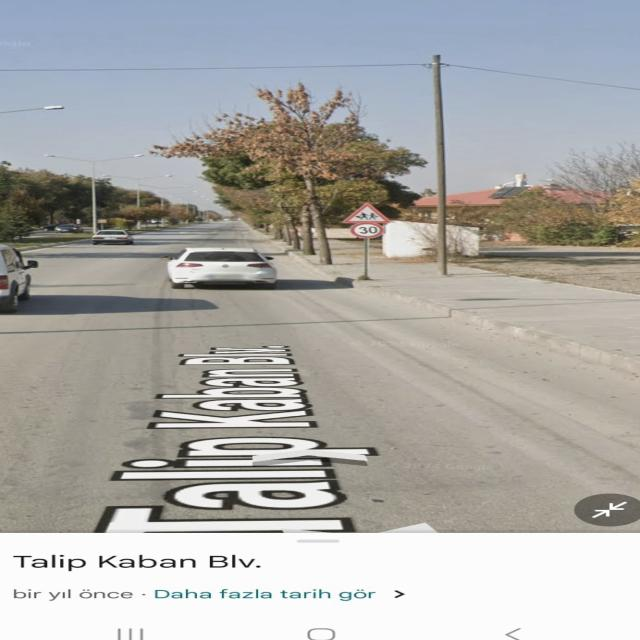okul_gecidi: (341, 203, 392, 223)
